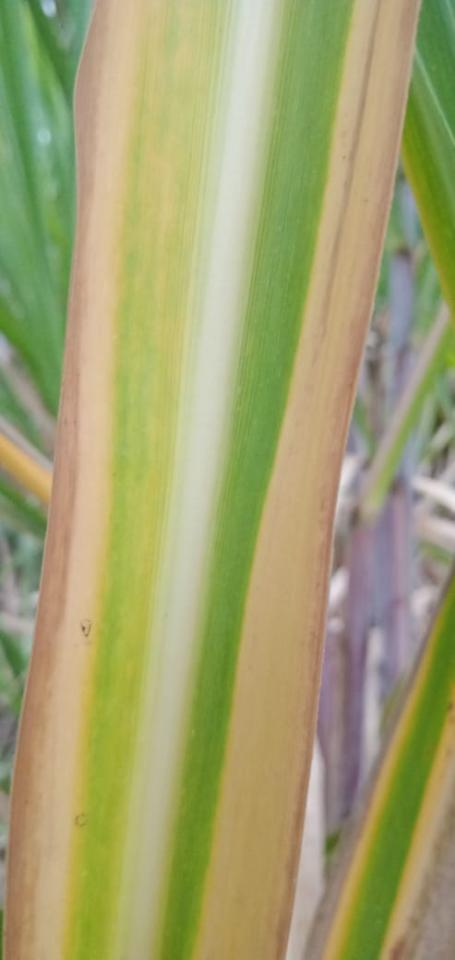Yellow: (194, 0, 421, 958), (5, 0, 151, 959), (320, 630, 440, 959), (380, 690, 454, 959), (0, 415, 52, 522)
